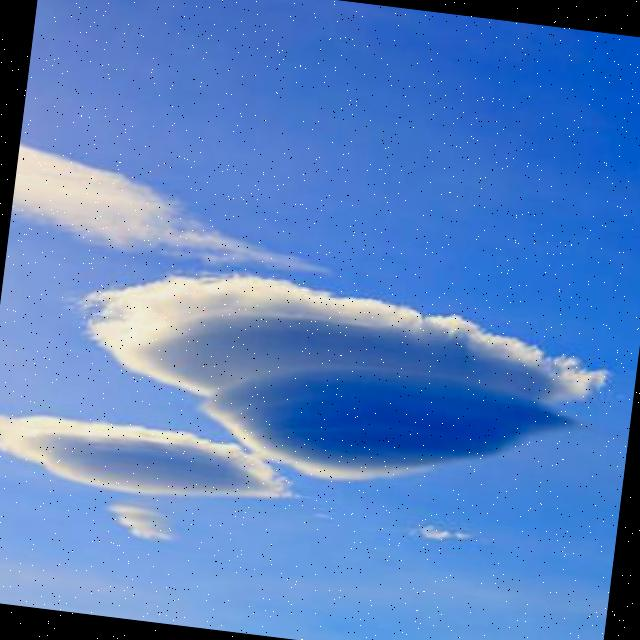Ac: (1, 103, 621, 589)
